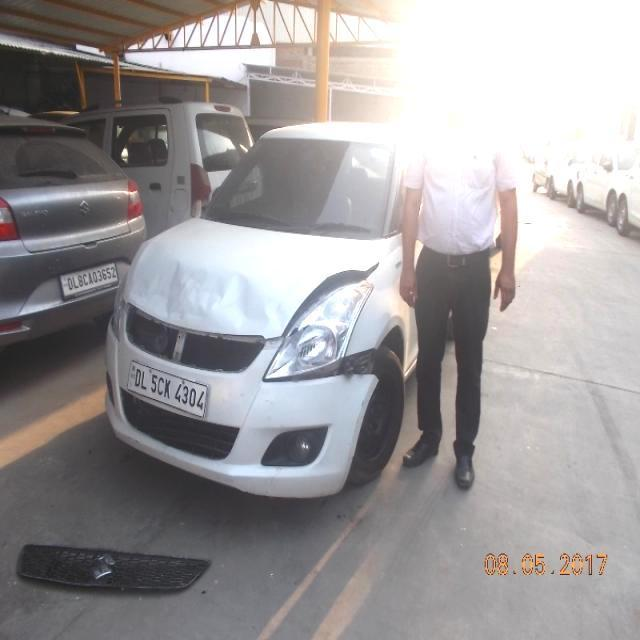minor: (125, 245, 381, 338)
